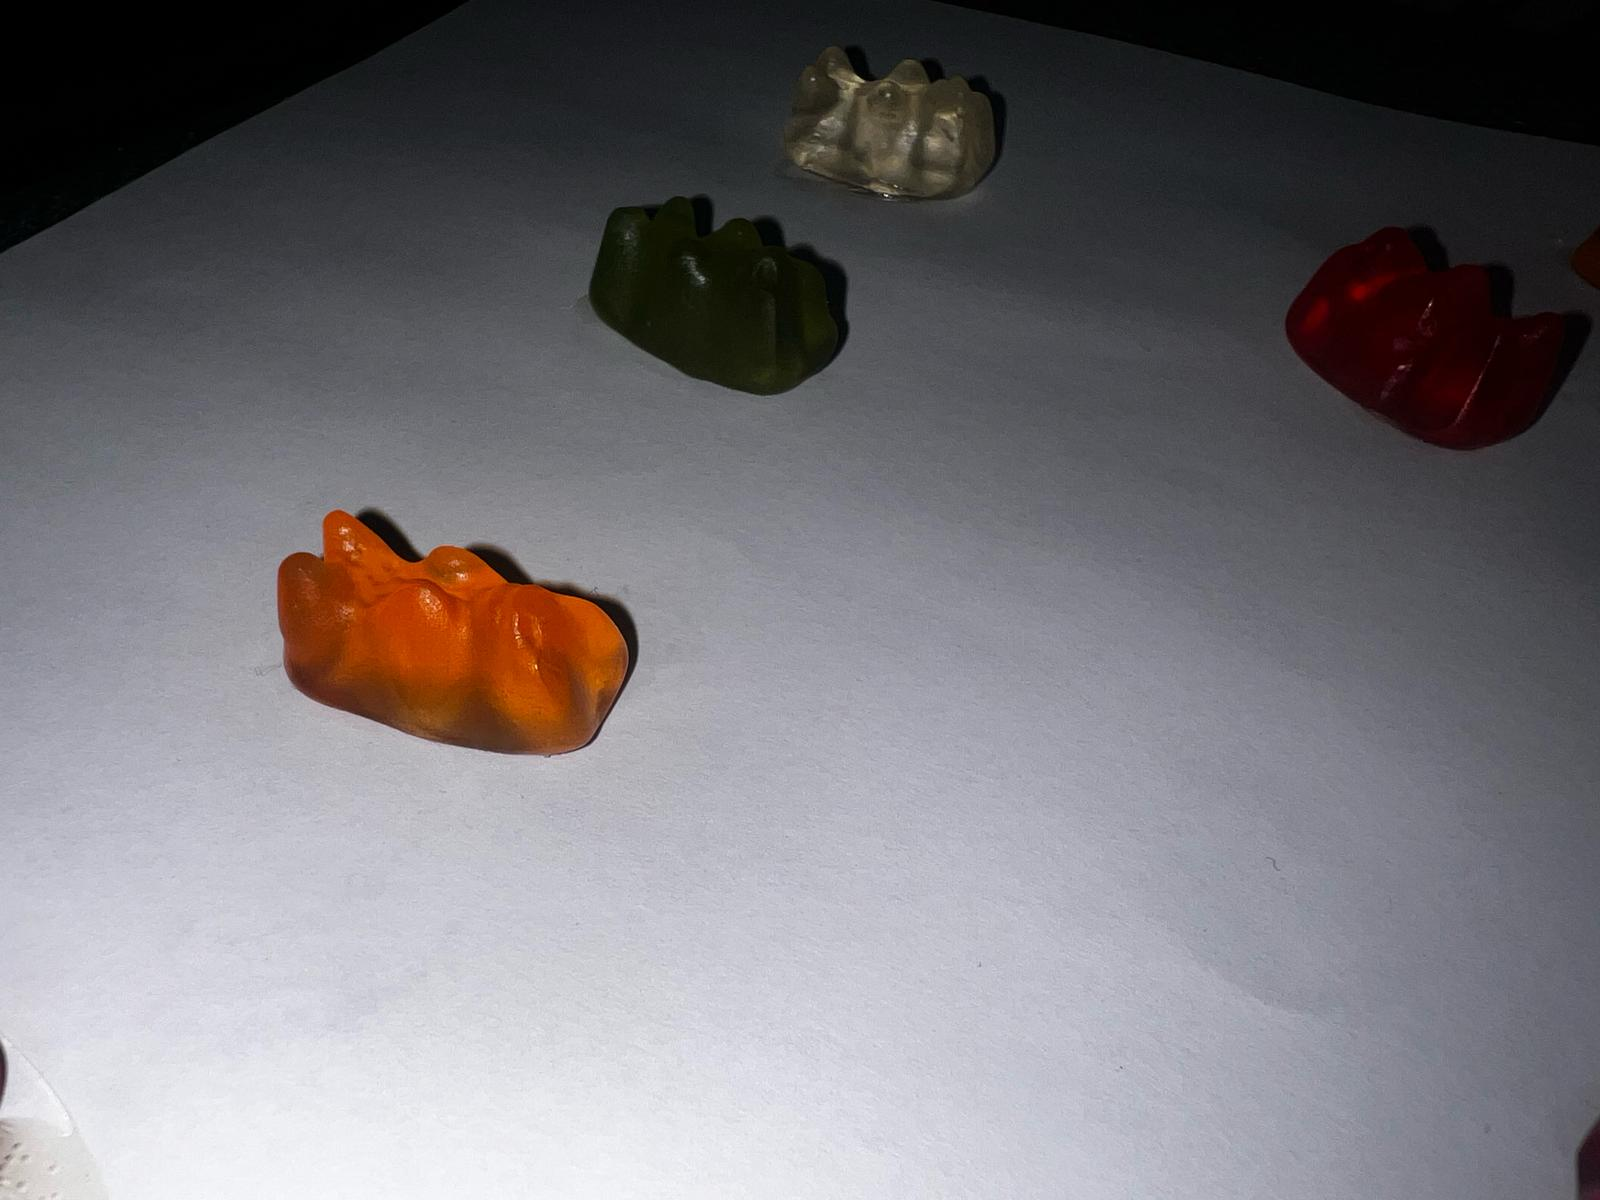gummybear: (271, 502, 643, 760), (1280, 217, 1586, 454), (573, 187, 860, 401), (776, 37, 1010, 211)
